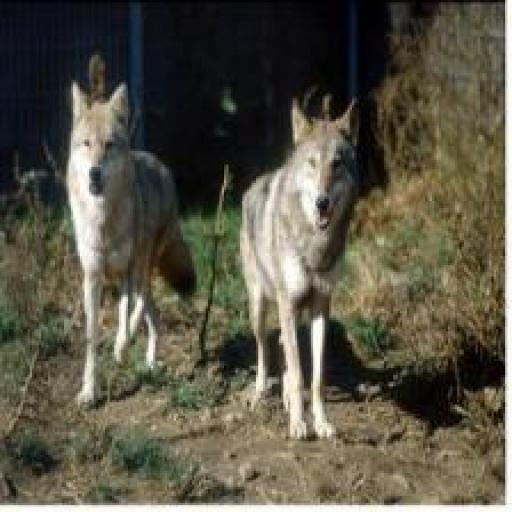wolf: (57, 57, 202, 396), (224, 87, 355, 459)
